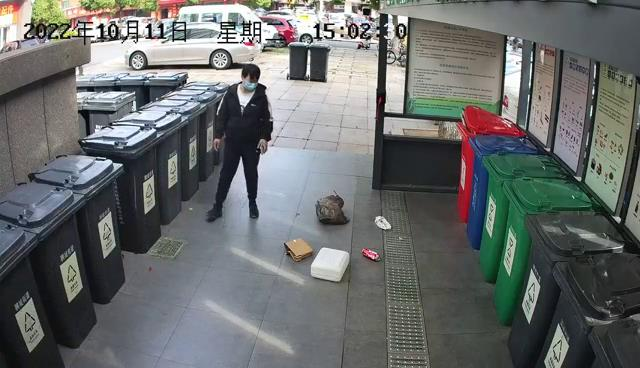lvzhipin: (361, 245, 381, 263), (373, 214, 392, 231)
paomozhipin: (309, 246, 350, 283)
person: (204, 62, 274, 222)
suliaozhipin: (314, 193, 351, 225)
zhizhipin: (283, 237, 313, 263)
